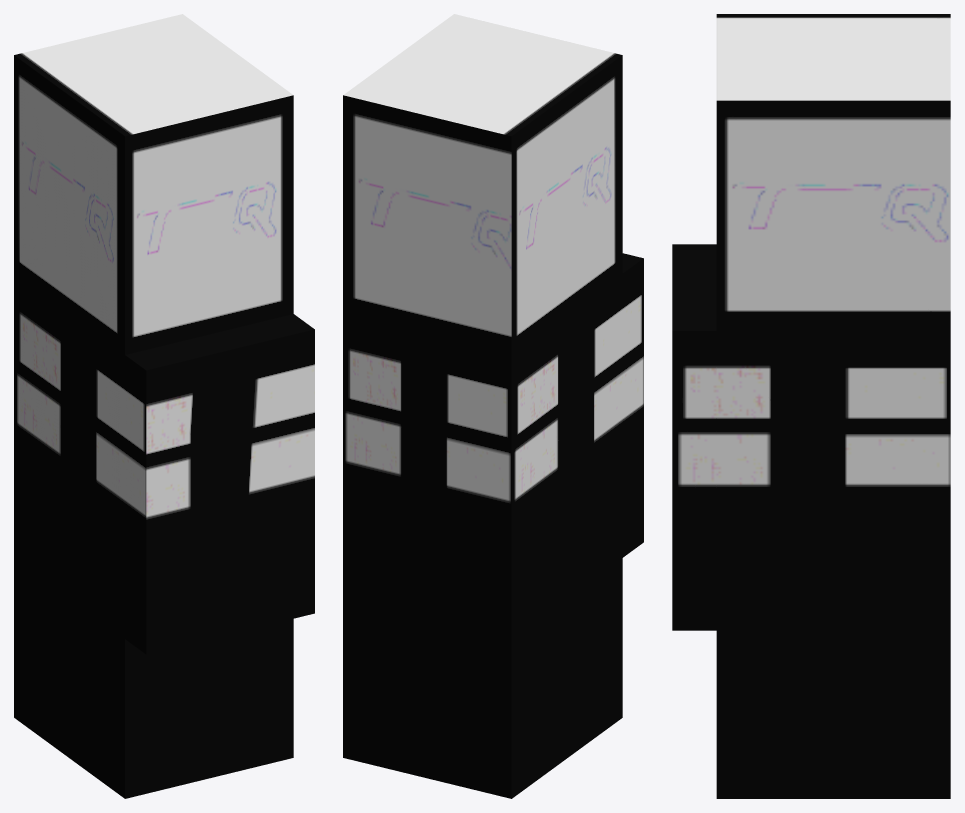
File: petrol pump.FBX
The picture shows the model from 3 angles, left to right: view 1: azimuth 30°, elevation 25°; view 2: azimuth 150°, elevation 25°; view 3: azimuth 270°, elevation 25°; orthographic projection. The views are drawn at different scales.
Parts seen in each view (by area): view 1: Box001; view 2: Box001; view 3: Box001.
Part boxes in pixels (box(x1,y1,x2,y2)): Box001: box(14, 14, 314, 798); Box001: box(343, 14, 643, 798); Box001: box(672, 14, 950, 798).
Bounding box in the file's own units: 24.33 × 91.38 × 33.04.
